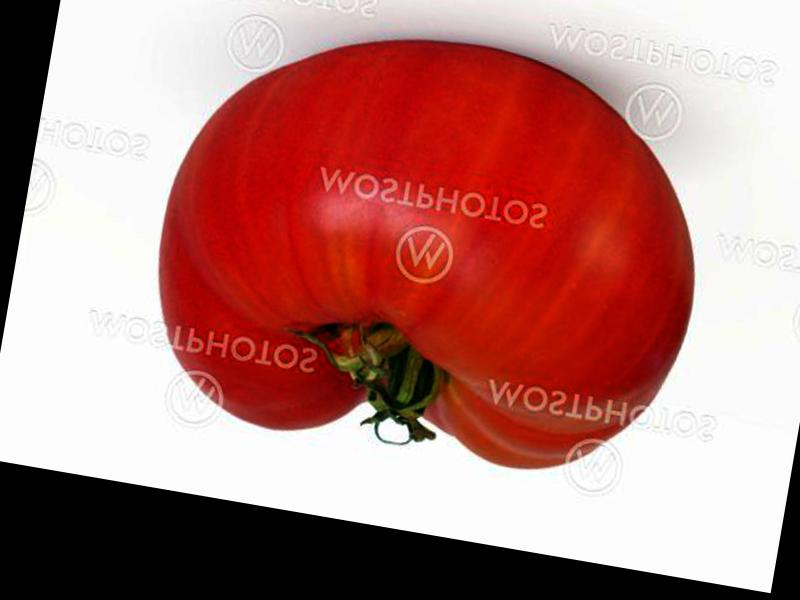Tomato: (134, 0, 728, 495)
